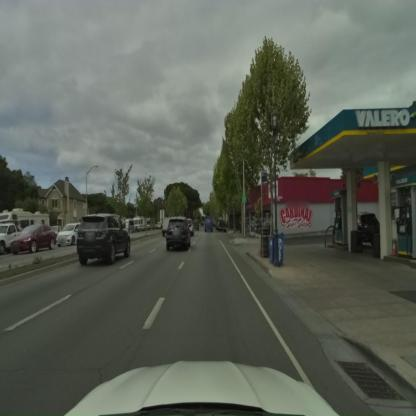car: (75, 214, 131, 265), (9, 222, 58, 255), (164, 219, 192, 252), (0, 224, 21, 254), (57, 222, 81, 246), (203, 209, 215, 234), (217, 217, 228, 238)
